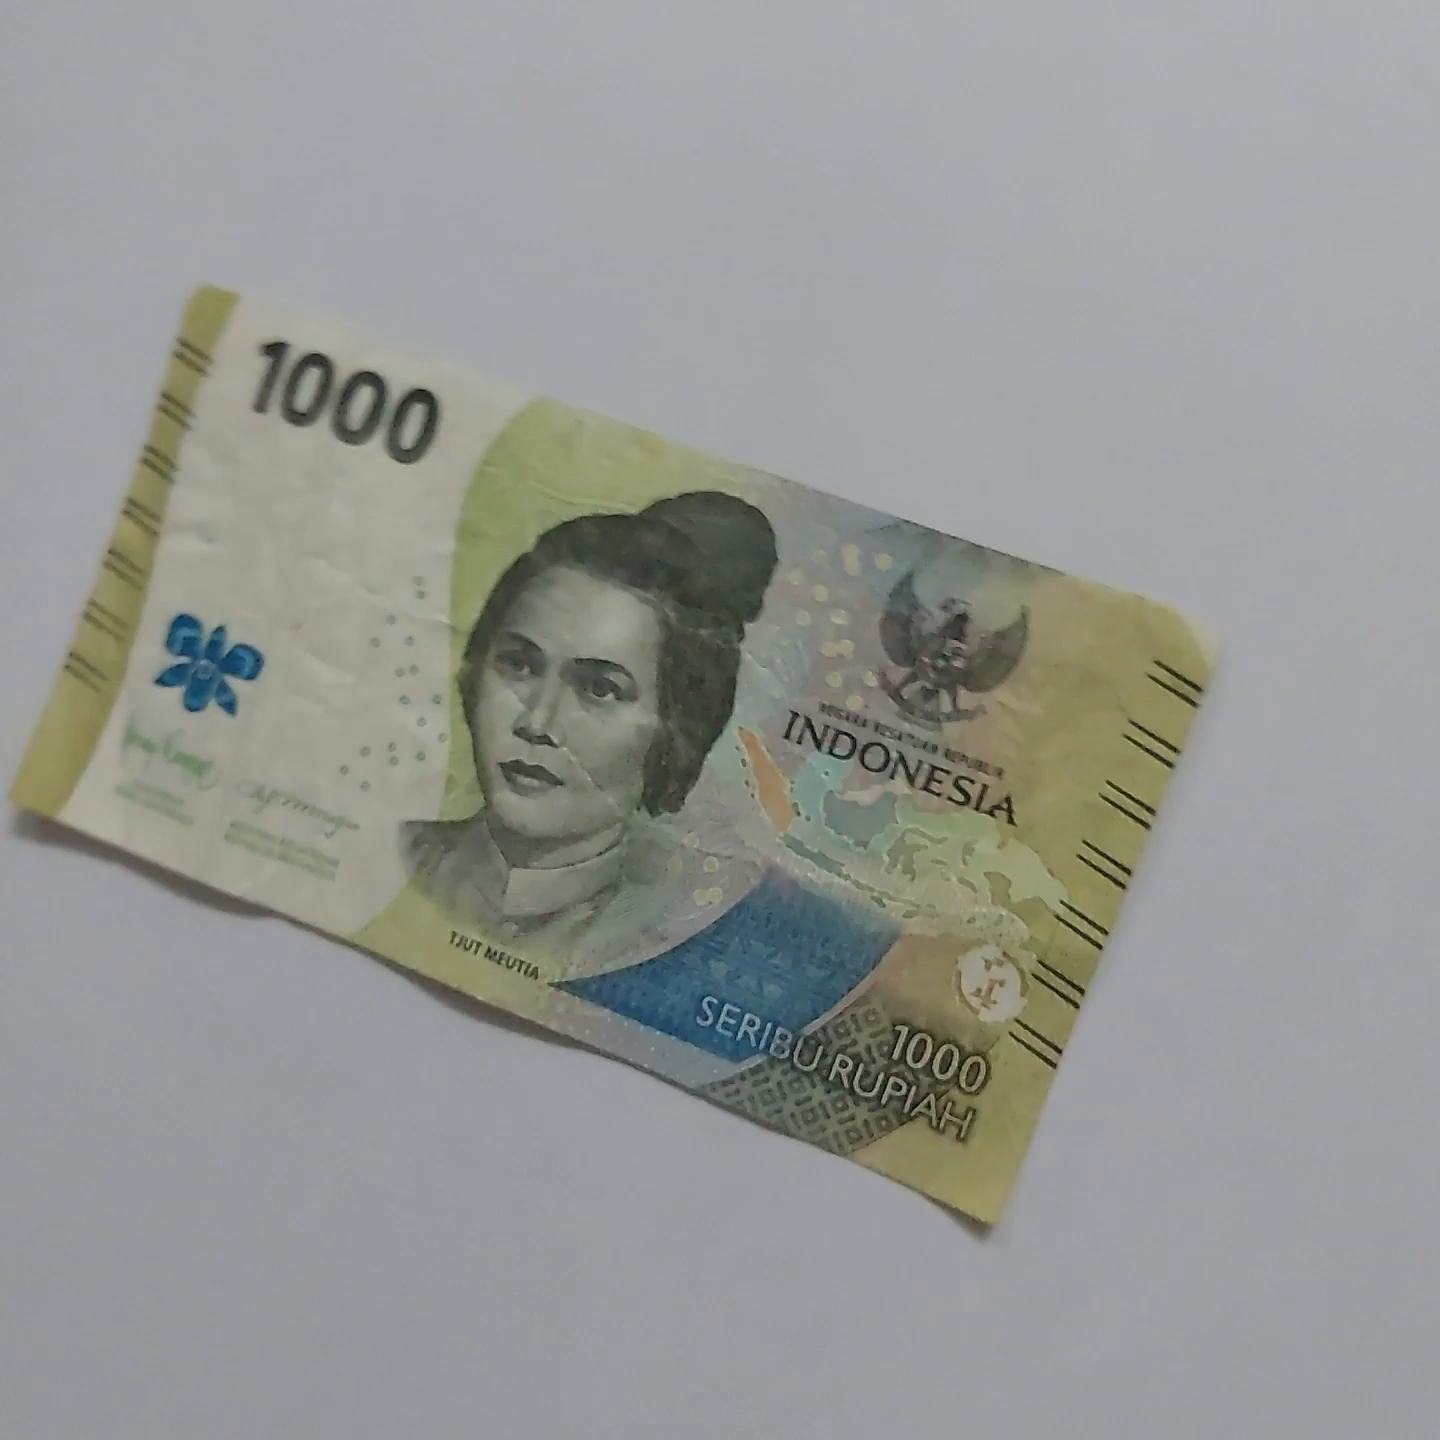1k: (219, 272, 1286, 935)
